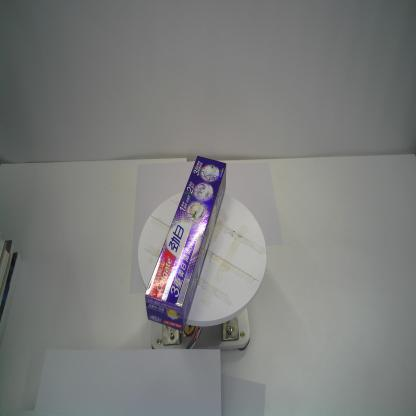Personal Hygiene: (144, 154, 230, 333)
